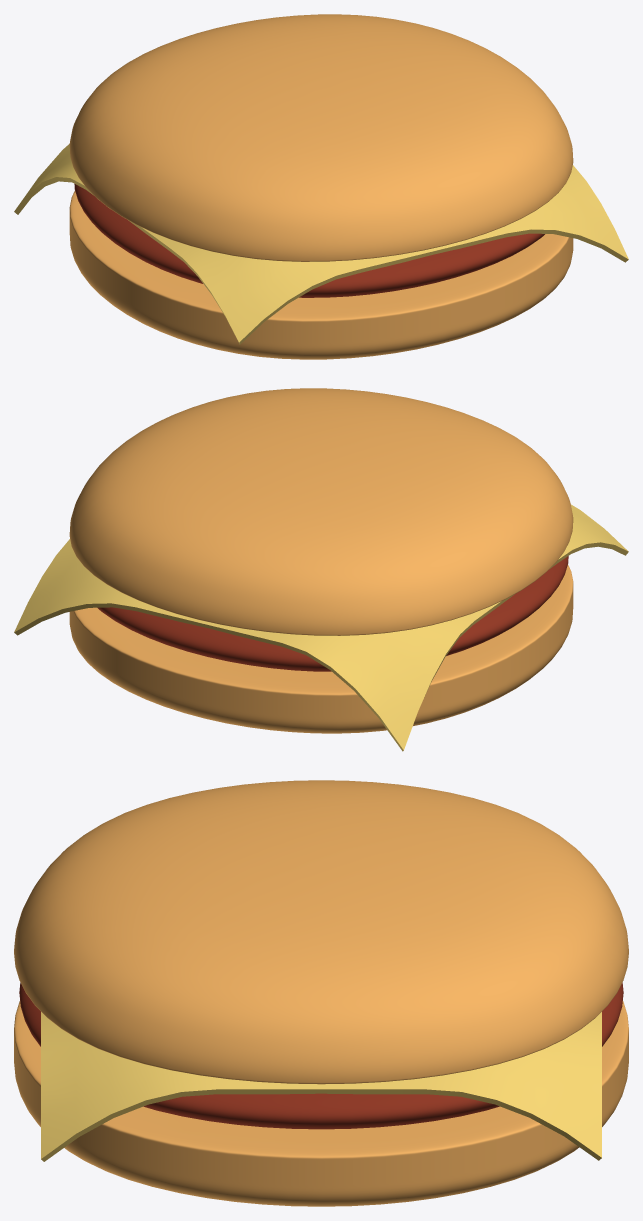
Rendered from hamburger.glb.
3 renders of one model, top to bottom at view 1: azimuth 30°, elevation 25°; view 2: azimuth 150°, elevation 25°; view 3: azimuth 270°, elevation 25°, orthographic. The views are drawn at different scales.
Parts seen in each view (by area): view 1: Cube.002, Cube, Plane, Cube.001; view 2: Cube.002, Cube, Plane, Cube.001; view 3: Cube.002, Cube, Plane, Cube.001.
Part boxes in pixels (box(x1,y1,x2,y2)): Cube.002: box(69, 14, 573, 261); Cube: box(69, 191, 573, 359); Plane: box(14, 144, 628, 344); Cube.001: box(74, 184, 544, 297); Cube.002: box(69, 388, 573, 635); Cube: box(69, 565, 573, 733); Plane: box(14, 504, 628, 751); Cube.001: box(97, 556, 568, 671); Cube.002: box(14, 780, 628, 1084); Cube: box(14, 1001, 628, 1206); Plane: box(41, 1012, 601, 1161); Cube.001: box(19, 982, 623, 1129).
Bounding box in the file's own units: 7.41 × 3.29 × 7.41.
